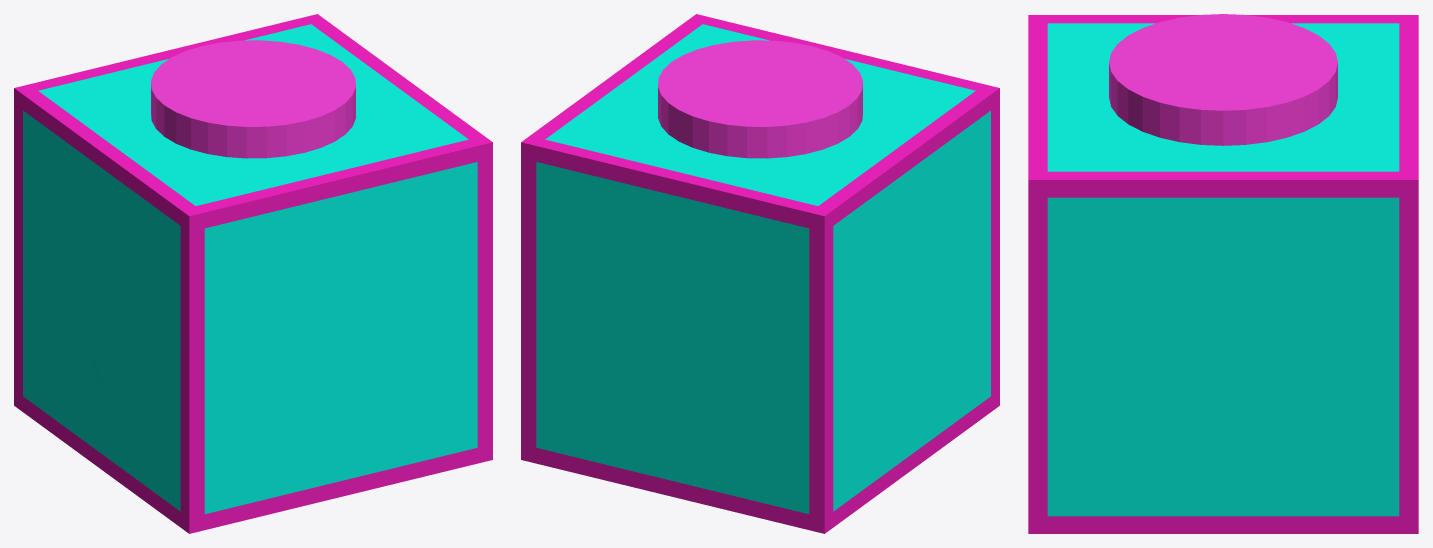
The model's file is sceneswapbox-origin.glb.
The picture shows the model from 3 angles, left to right: view 1: azimuth 30°, elevation 25°; view 2: azimuth 150°, elevation 25°; view 3: azimuth 270°, elevation 25°; orthographic projection. The views are drawn at different scales.
Parts seen in each view (by area): view 1: 立方体.038, Cylinder.008; view 2: 立方体.038, Cylinder.008; view 3: 立方体.038, Cylinder.008.
Part boxes in pixels (<box>): 立方体.038: <box>14,14,492,533</box>; Cylinder.008: <box>151,40,355,158</box>; 立方体.038: <box>521,14,999,533</box>; Cylinder.008: <box>658,40,862,158</box>; 立方体.038: <box>1028,15,1418,533</box>; Cylinder.008: <box>1109,14,1337,145</box>.
Bounding box in the file's own units: 0.5589 × 0.6143 × 0.5589.
Materials: 1 (1 with a texture image).
